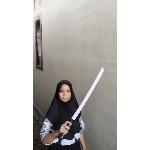Pedang: (56, 66, 106, 140)
